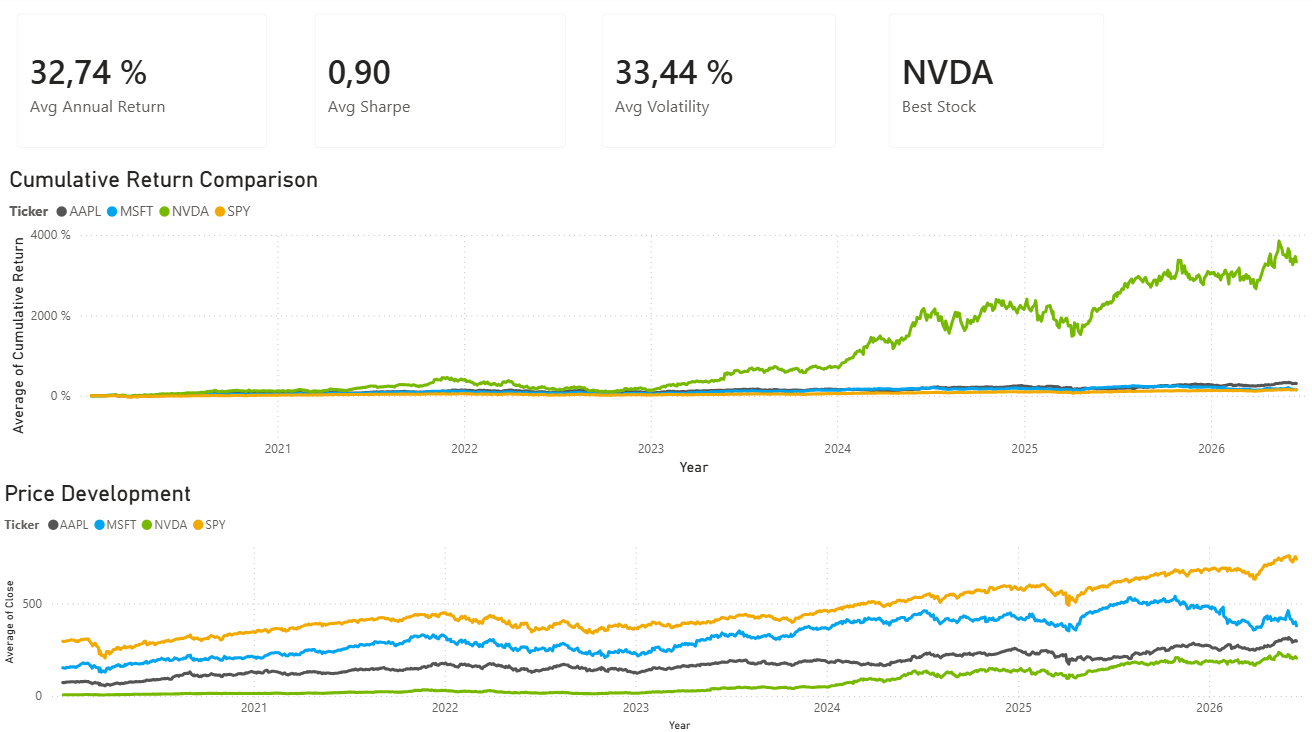

The page's visual inventory and layout, read from the dashboard file:
{"tool":"powerbi","page":{"name":"Executive Summary","canvas":[1280,720],"ordinal":0},"visuals":[{"type":"cardVisual","fields":{"Data":["comparison_metrics.Avg Annual Return"]},"box":[0,0,278.2,165.3],"z":0},{"type":"cardVisual","fields":{"Data":["comparison_metrics.Avg Sharpe"]},"box":[289.8,0,279.1,165.3],"z":1000},{"type":"cardVisual","fields":{"Data":["comparison_metrics.Avg Volatility"]},"box":[569,0,262.6,165.3],"z":2000},{"type":"cardVisual","fields":{"Data":["comparison_metrics.Best Stock"]},"box":[848.1,0,244.1,165.3],"z":3000},{"type":"lineChart","title":"Cumulative Return Comparison","fields":{"Series":["historical_prices.Ticker"],"Y":["Avg(historical_prices.Cumulative Return)"],"Category":["historical_prices.Date.Variation.Date Hierarchy.Year","historical_prices.Date.Variation.Date Hierarchy.Quarter","historical_prices.Date.Variation.Date Hierarchy.Month","historical_prices.Date.Variation.Date Hierarchy.Day"]},"box":[5,165,1275,306],"z":4000},{"type":"lineChart","title":" Price Development","fields":{"Y":["Avg(historical_prices.Close)"],"Category":["historical_prices.Date.Variation.Date Hierarchy.Year","historical_prices.Date.Variation.Date Hierarchy.Quarter","historical_prices.Date.Variation.Date Hierarchy.Month","historical_prices.Date.Variation.Date Hierarchy.Day"],"Series":["historical_prices.Ticker"]},"box":[0,471,1280,249],"z":5000}]}

Visuals, with their boxes in screenshot pixels (x1, y1, x2, y2), scaled from the page's 1280x720 canvas onto the 1312x732 screenshot:
cardVisual - comparison_metrics.Avg Annual Return: <box>0,0,285,168</box>
cardVisual - comparison_metrics.Avg Sharpe: <box>297,0,583,168</box>
cardVisual - comparison_metrics.Avg Volatility: <box>583,0,852,168</box>
cardVisual - comparison_metrics.Best Stock: <box>869,0,1120,168</box>
"Cumulative Return Comparison" lineChart: <box>5,168,1311,479</box>
" Price Development" lineChart: <box>0,479,1311,731</box>
